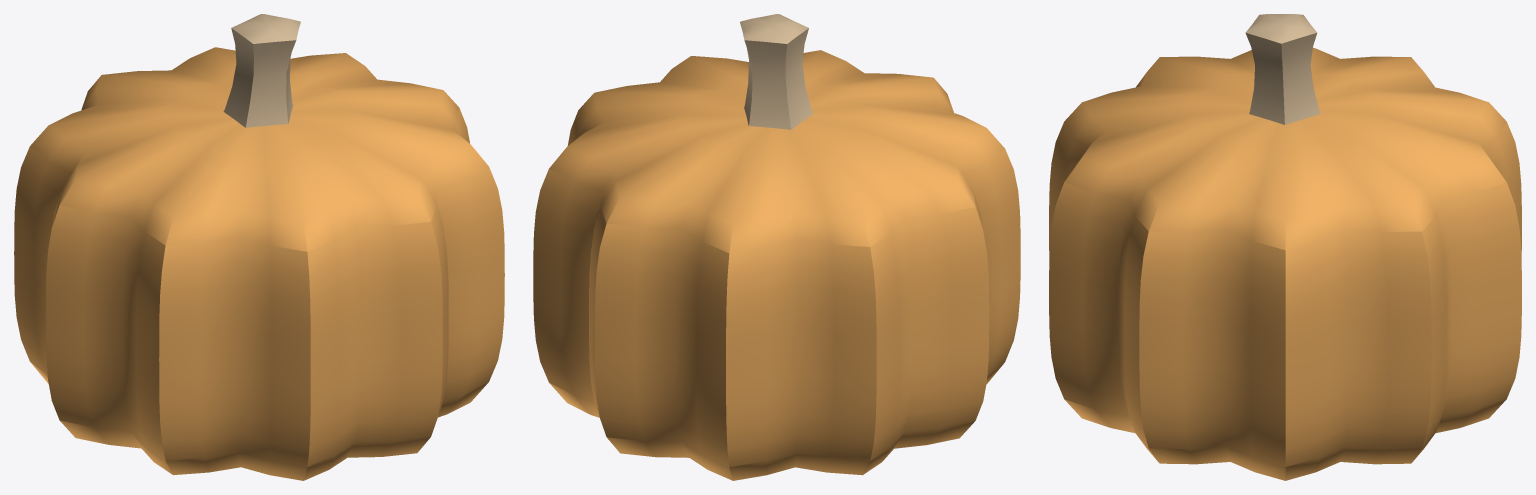
Rendered from fresh-produce-and-groceries-pumpkin-e2783926__24388.glb.
3 renders of one model, left to right at view 1: azimuth 30°, elevation 25°; view 2: azimuth 150°, elevation 25°; view 3: azimuth 270°, elevation 25°, orthographic.
Visible parts, largest first — view 1: pumpkin; view 2: pumpkin; view 3: pumpkin.
Boxes of the visible parts, <box> form: pumpkin: <box>14,14,504,480</box>; pumpkin: <box>533,14,1020,480</box>; pumpkin: <box>1049,14,1521,480</box>.
Size of the model in its own units: 0.23 by 0.201 by 0.2187.
